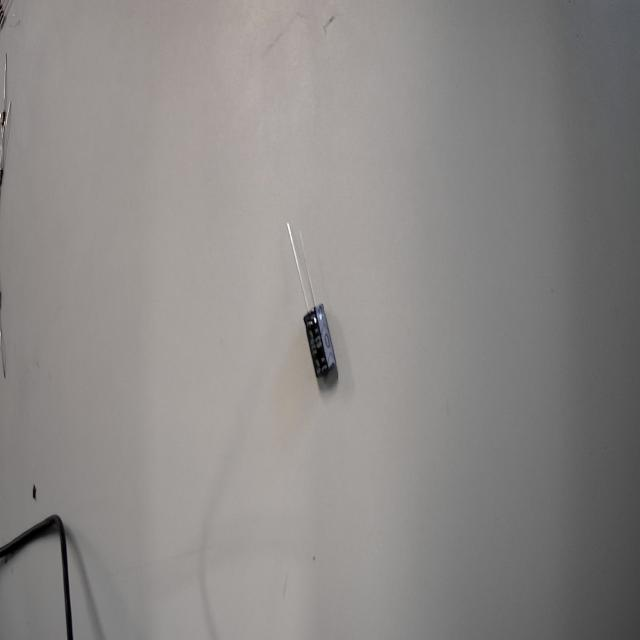capacitor_L: (288, 277, 352, 398)
